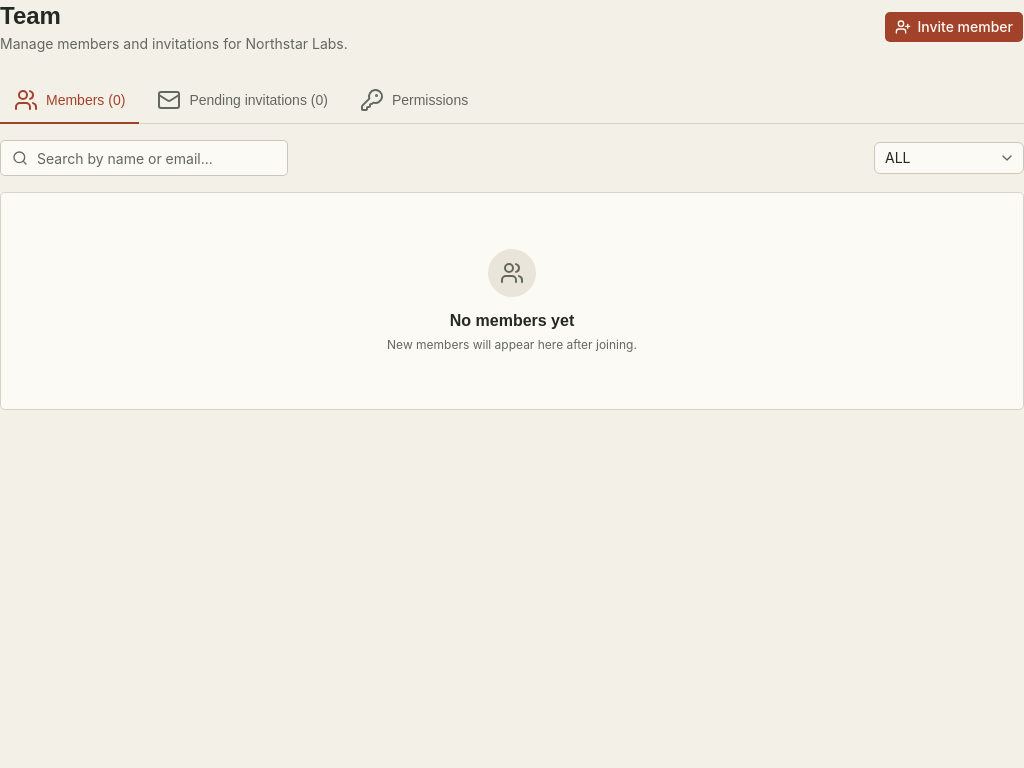
Test: Team › shows a shareable link returned when an invitation is created
Click the button "Invite member" at (954, 27), box [884,11,1023,43]
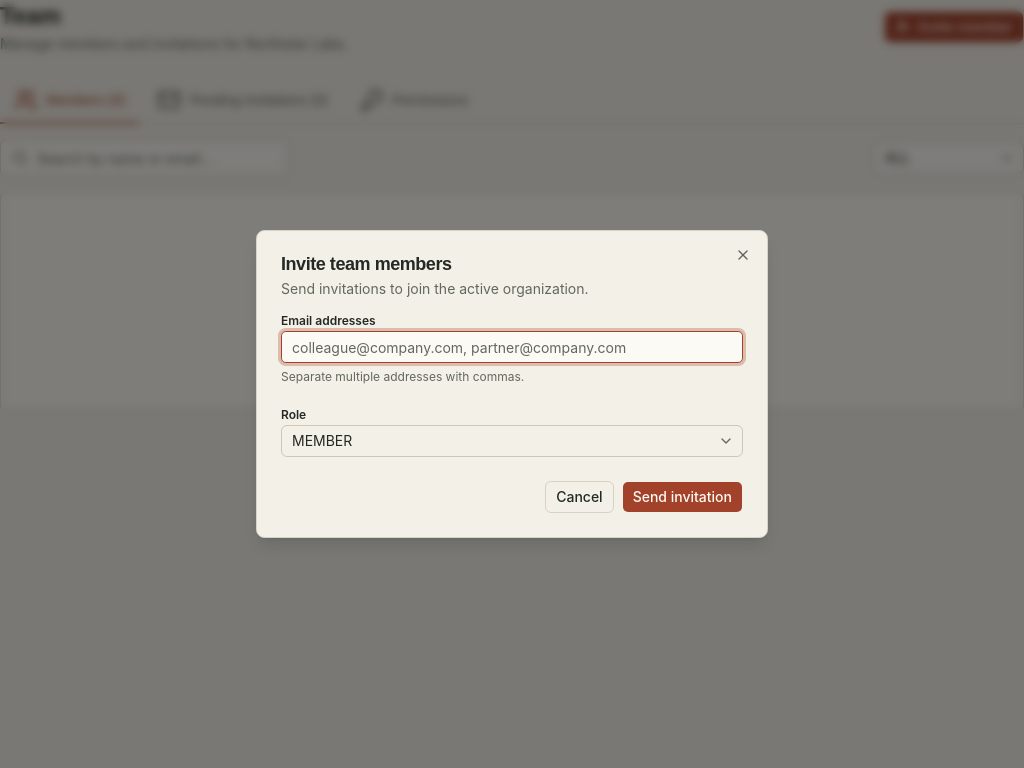
Type "invitee@example.com" into the field labelled "Email addresses" at (512, 347), box [281,331,743,363]
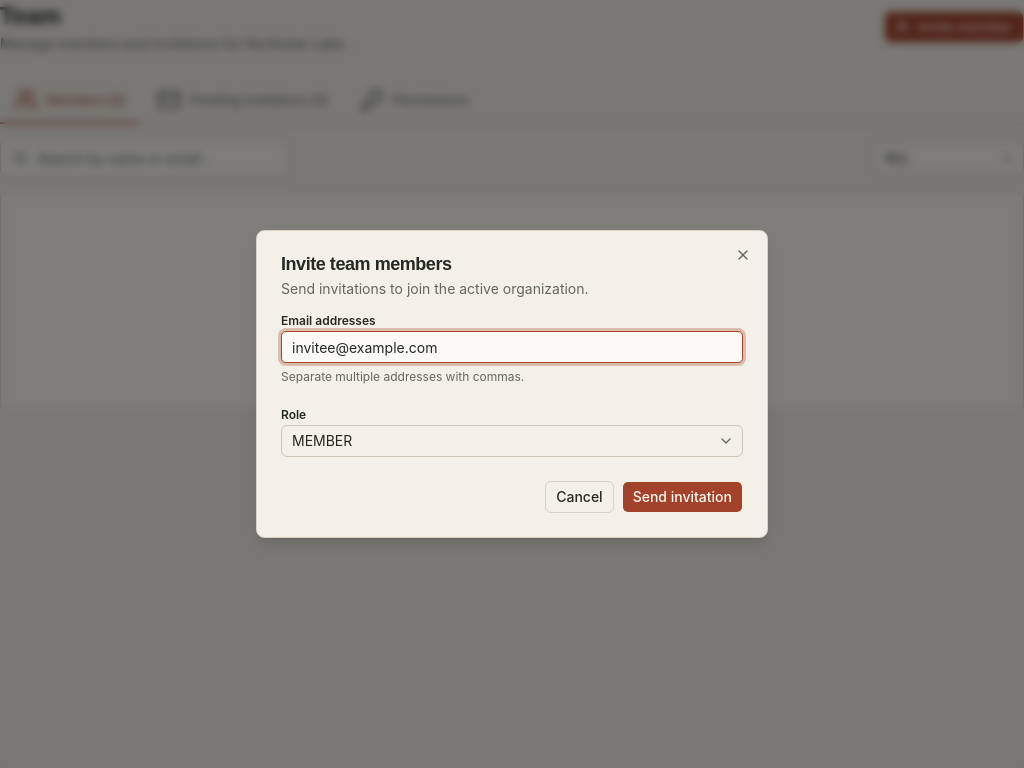
Click the button "Send invitation" at (682, 497), box [622,481,743,513]
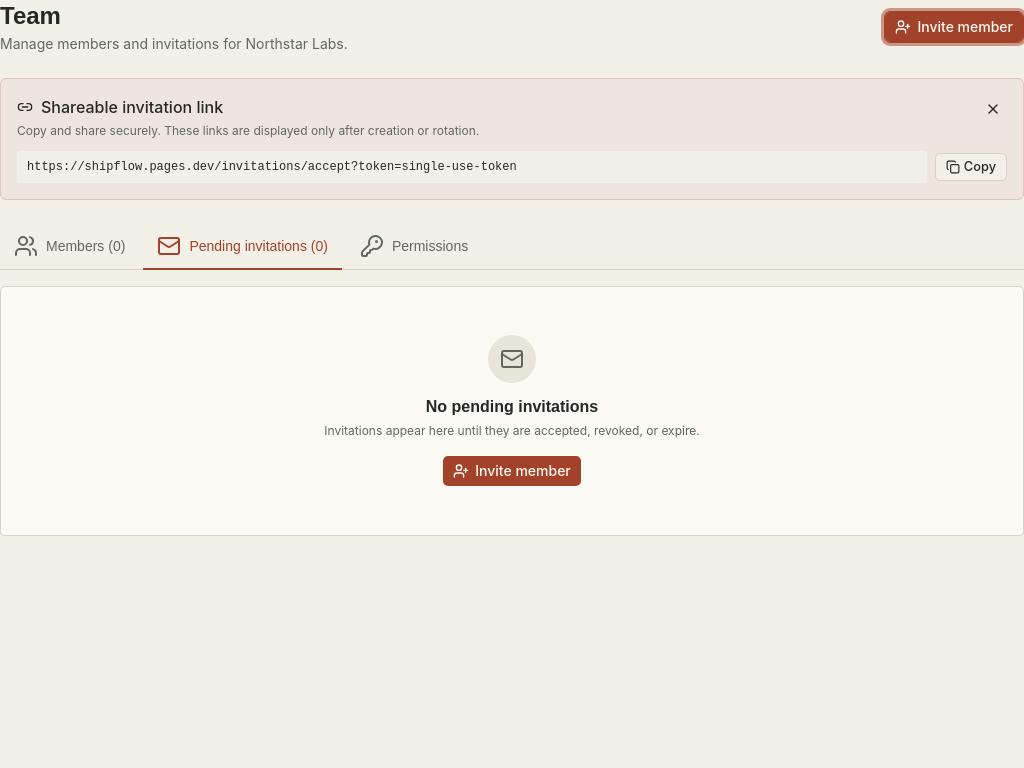
Expected: the text "https://shipflow.pages.dev/invitations/accept?token=single-use-token" is shown, [17,151,927,183]
Expected: the button "Copy" is shown, [935,153,1007,181]
